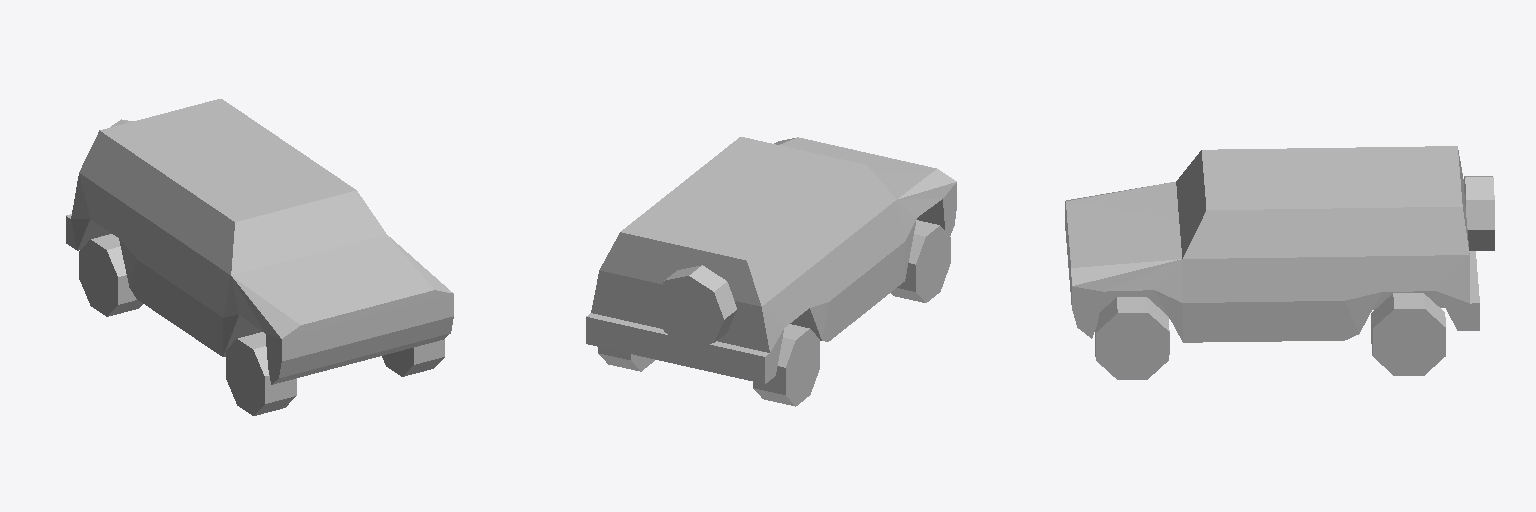
File: car1.obj
3 renders of one model, left to right at view 1: azimuth 30°, elevation 25°; view 2: azimuth 150°, elevation 25°; view 3: azimuth 270°, elevation 25°, orthographic.
Parts seen in each view (by area): view 1: pasted___null_6 group46; view 2: pasted___null_6 group46; view 3: pasted___null_6 group46.
Part boxes in pixels (x1,y1,x2,y2): pasted___null_6 group46: (66, 99, 453, 415); pasted___null_6 group46: (586, 137, 956, 406); pasted___null_6 group46: (1065, 146, 1494, 379).
Bounding box in the file's own units: 6.27 × 4.74 × 12.